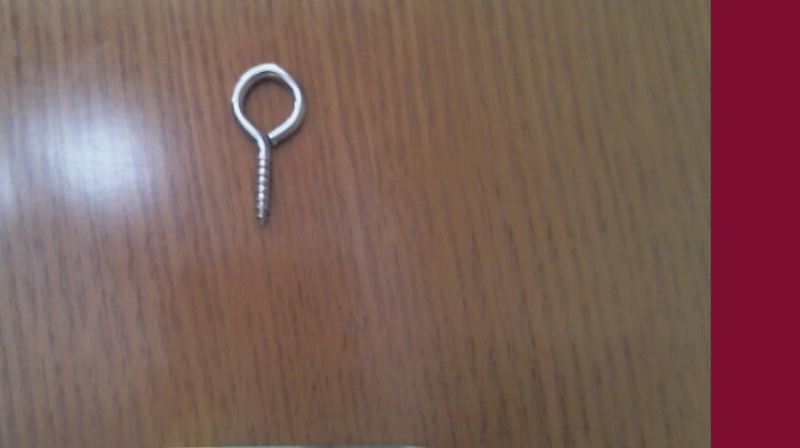O001: (222, 56, 312, 230)
